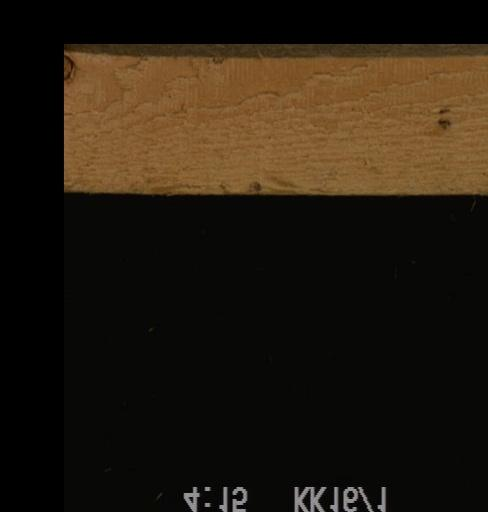dry_knot: (63, 51, 73, 81)
